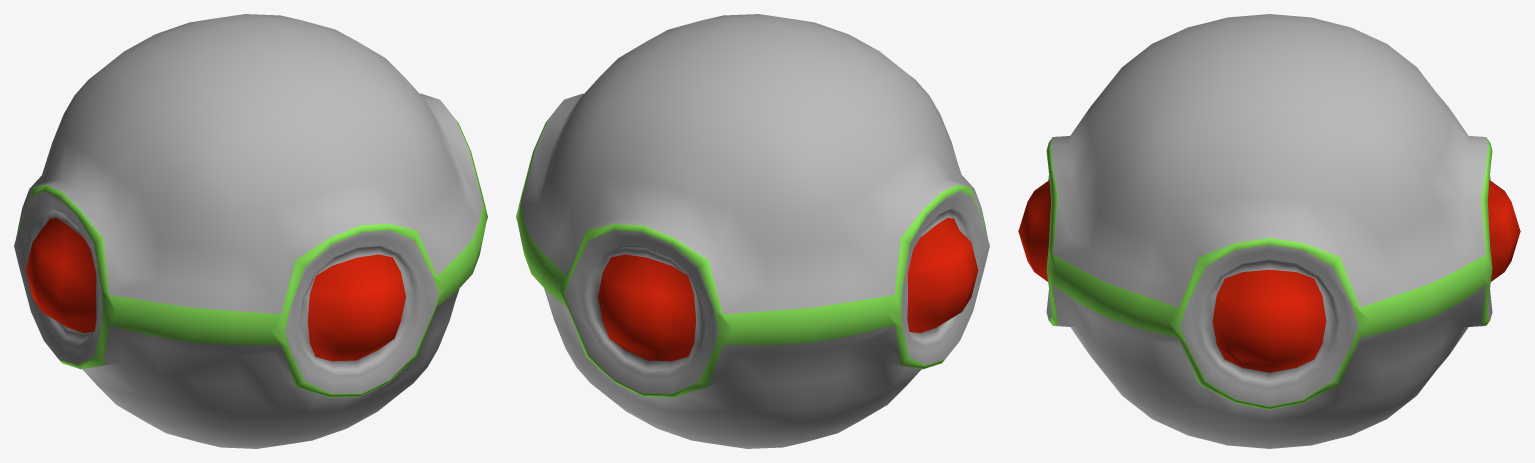
Rendered from Bomb.fbx.
3 views of the same model, side by side, from view 1: azimuth 30°, elevation 25°; view 2: azimuth 150°, elevation 25°; view 3: azimuth 270°, elevation 25° (orthographic).
Visible parts, largest first — view 1: Bomb; view 2: Bomb; view 3: Bomb.
Boxes of the visible parts, x1,y1,x2,y2 form: Bomb: [14, 14, 487, 448]; Bomb: [516, 14, 989, 448]; Bomb: [1018, 14, 1520, 448].
Bounding box in the file's own units: 281 × 240 × 281.
